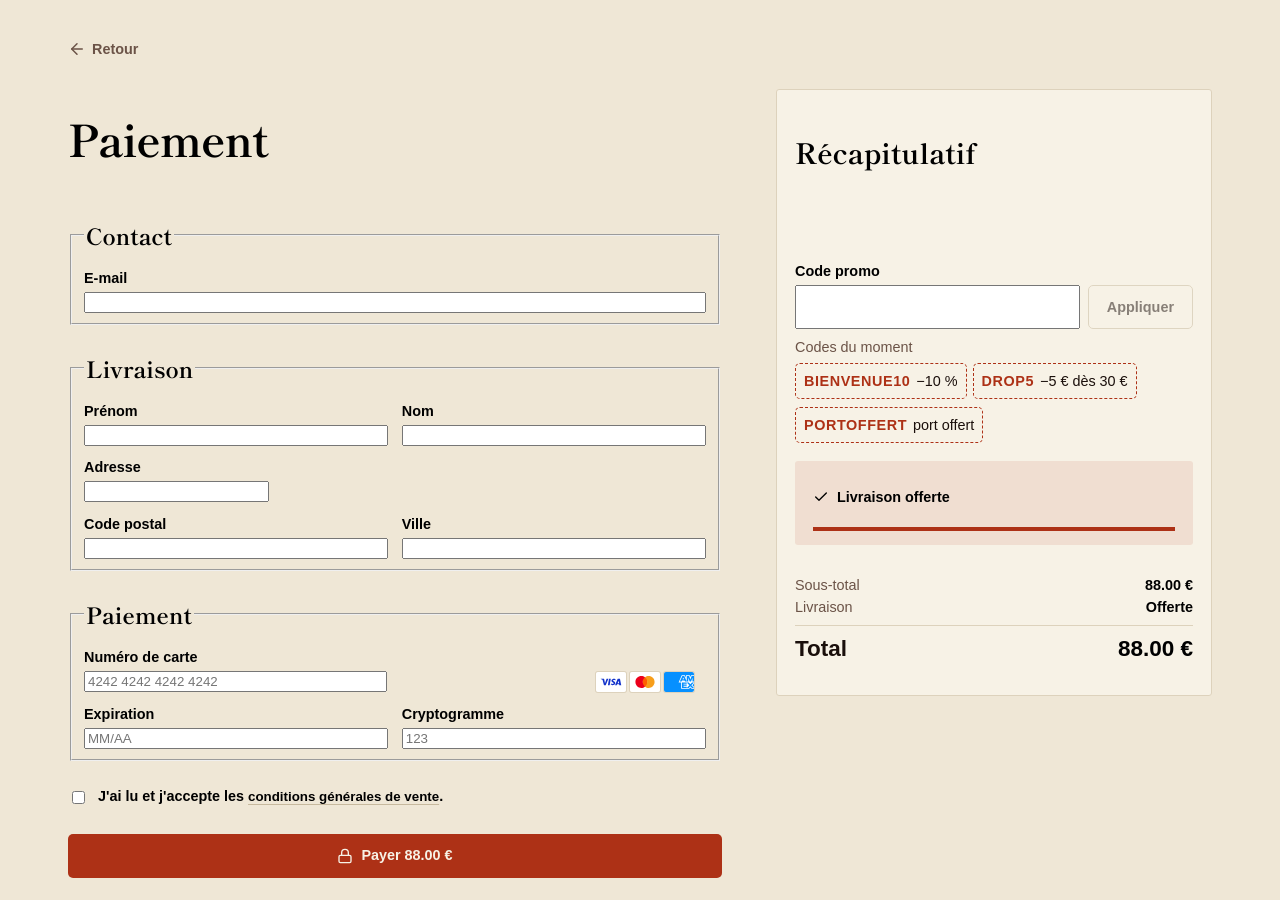
code postal › n'accepte que cinq chiffres
Type "75a0112" into the field labelled "Code postal" at (236, 548), box [84, 538, 388, 559]
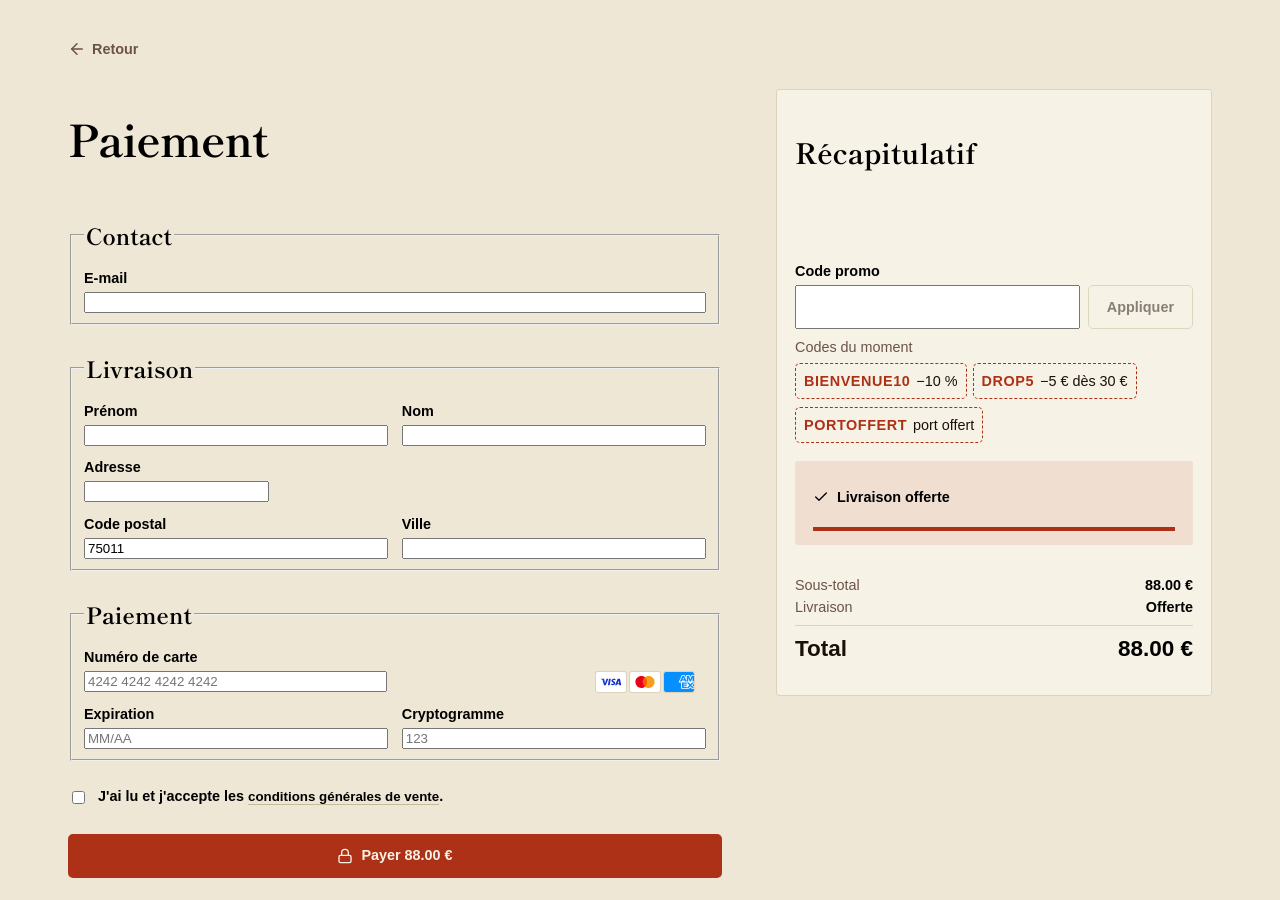
Now the field labelled "Code postal" holds "75011", box [84, 538, 388, 559]
